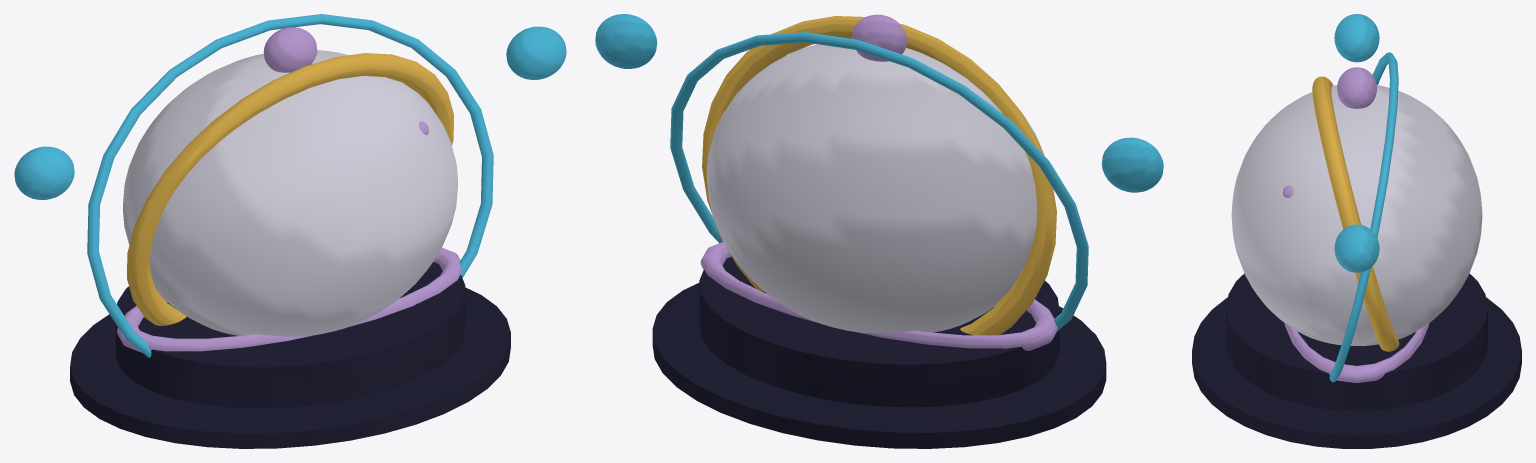
File: 0044_天文图鉴_天王星.glb
The picture shows the model from 3 angles, left to right: view 1: azimuth 30°, elevation 25°; view 2: azimuth 150°, elevation 25°; view 3: azimuth 270°, elevation 25°; orthographic projection. The views are drawn at different scales.
Visible parts, largest first — view 1: card_0044; view 2: card_0044; view 3: card_0044.
Boxes of the visible parts, left/top/right/bottom form: card_0044: left=14, top=14, right=566, bottom=448; card_0044: left=595, top=14, right=1163, bottom=448; card_0044: left=1192, top=14, right=1521, bottom=448.
Bounding box in the file's own units: 1.67 × 1 × 0.9945.
